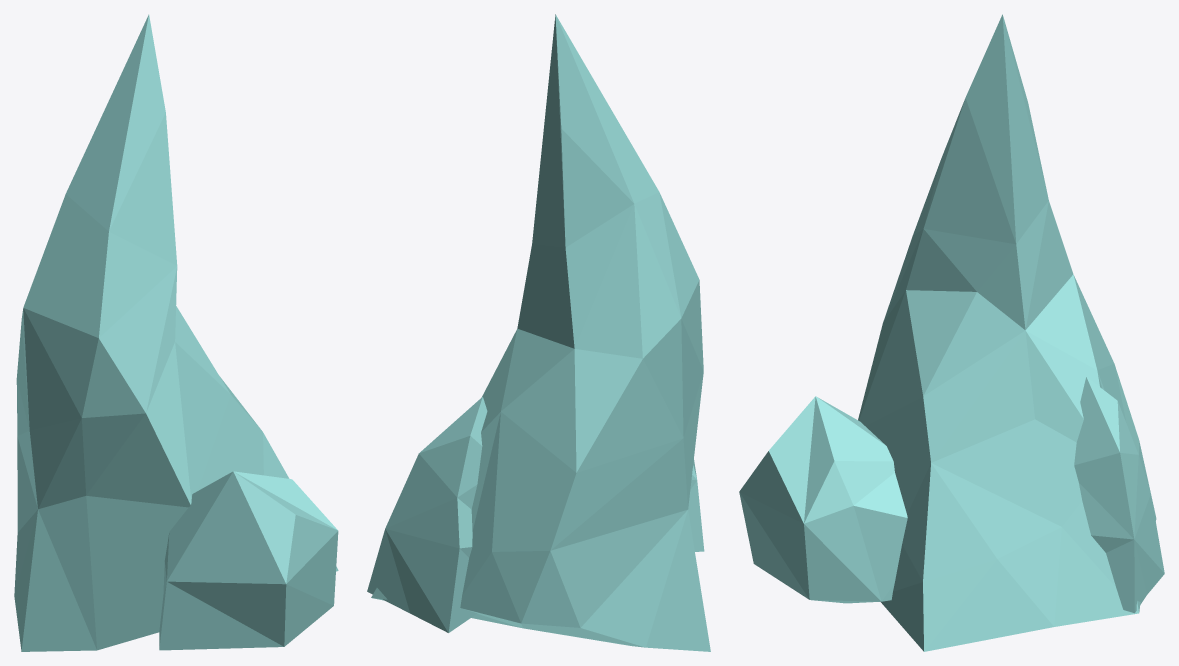
The model's file is IceDeco.gltf.
3 renders of one model, left to right at view 1: azimuth 30°, elevation 25°; view 2: azimuth 150°, elevation 25°; view 3: azimuth 270°, elevation 25°, orthographic. The views are drawn at different scales.
Parts seen in each view (by area): view 1: Ice.004, Ice.003; view 2: Ice.004, Ice.003; view 3: Ice.004, Ice.003.
Boxes of the visible parts, bbox=[...] form: Ice.004: bbox=[14, 14, 338, 651]; Ice.003: bbox=[159, 471, 338, 650]; Ice.004: bbox=[371, 14, 710, 651]; Ice.003: bbox=[367, 397, 704, 632]; Ice.004: bbox=[858, 14, 1156, 651]; Ice.003: bbox=[739, 377, 1164, 613].
Bounding box in the file's own units: 2.09 × 4.18 × 2.66.
